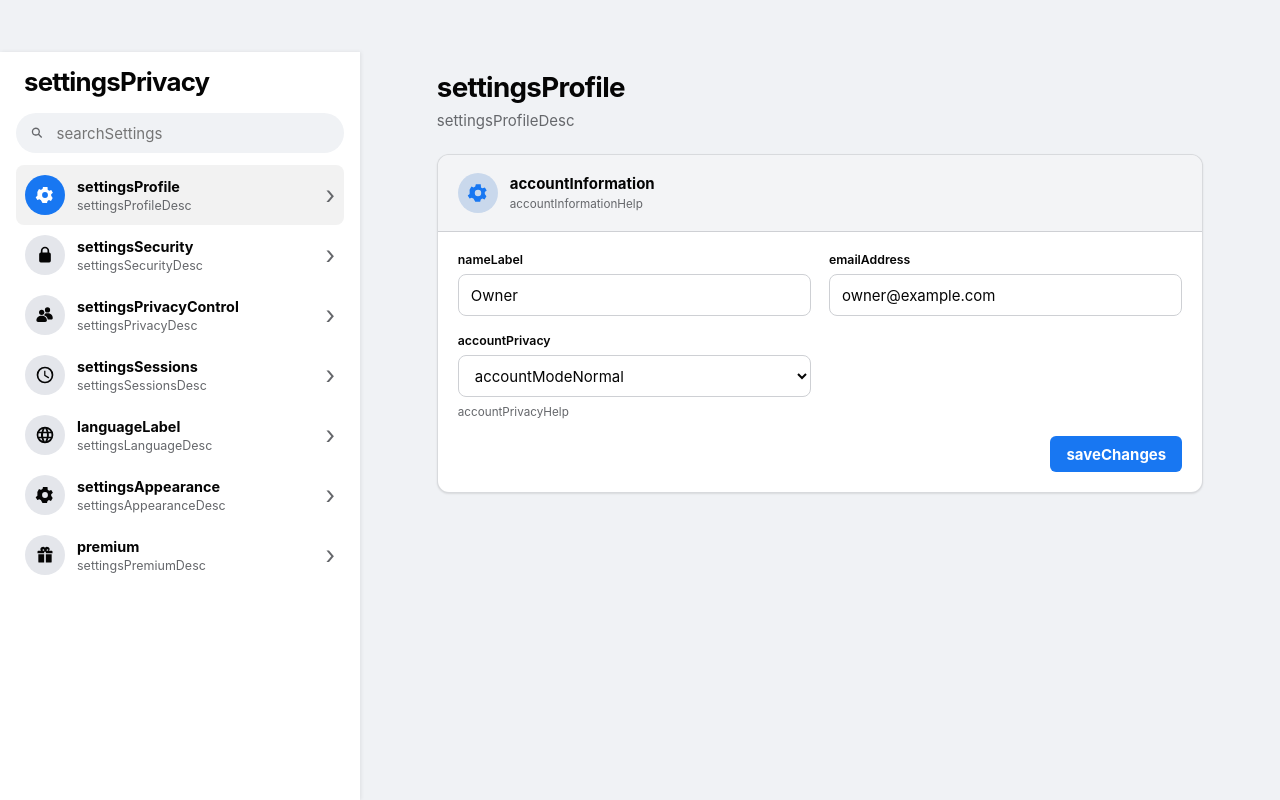
Test case: Account identity settings › requires the current password before changing email
Replace the text in the field labelled "emailAddress" with "new@example.com": (1006, 295) x1=829 y1=274 x2=1182 y2=316
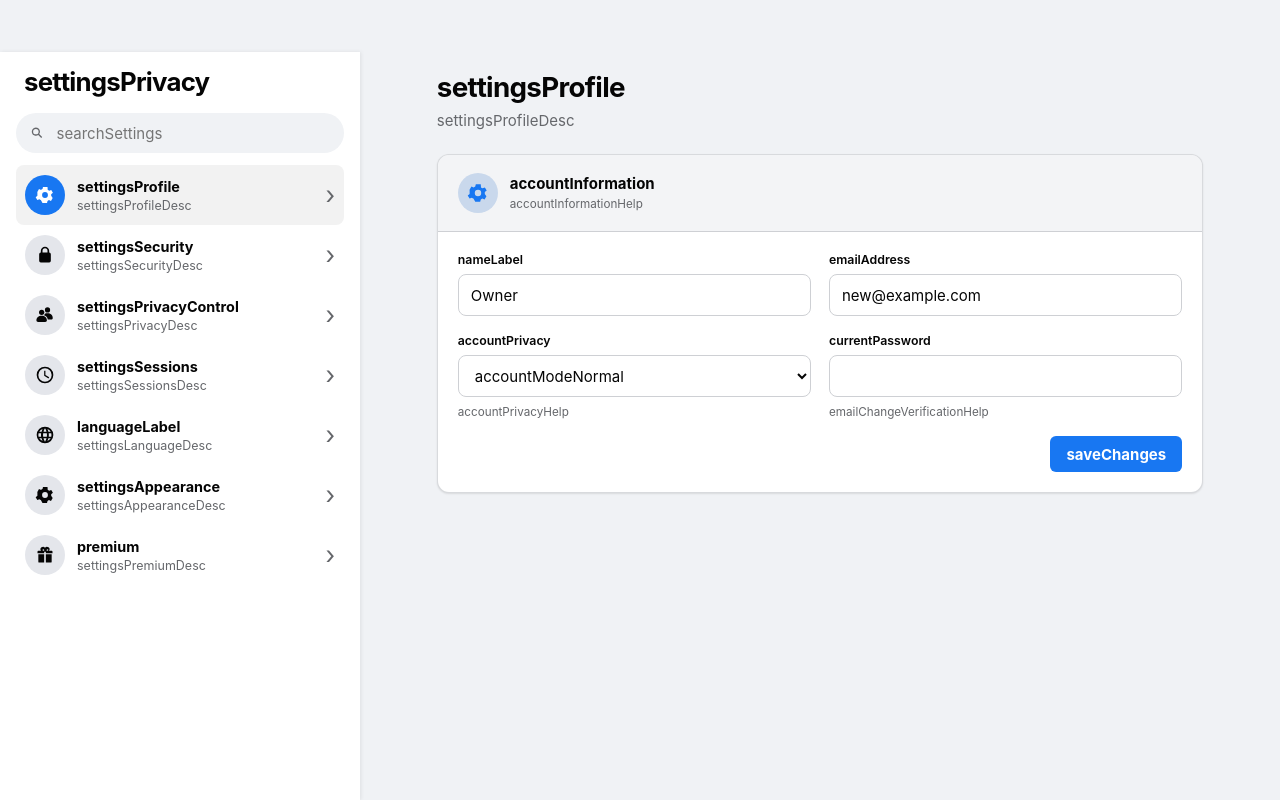
Click the button "saveChanges": click(1116, 454) x1=1050 y1=436 x2=1182 y2=472
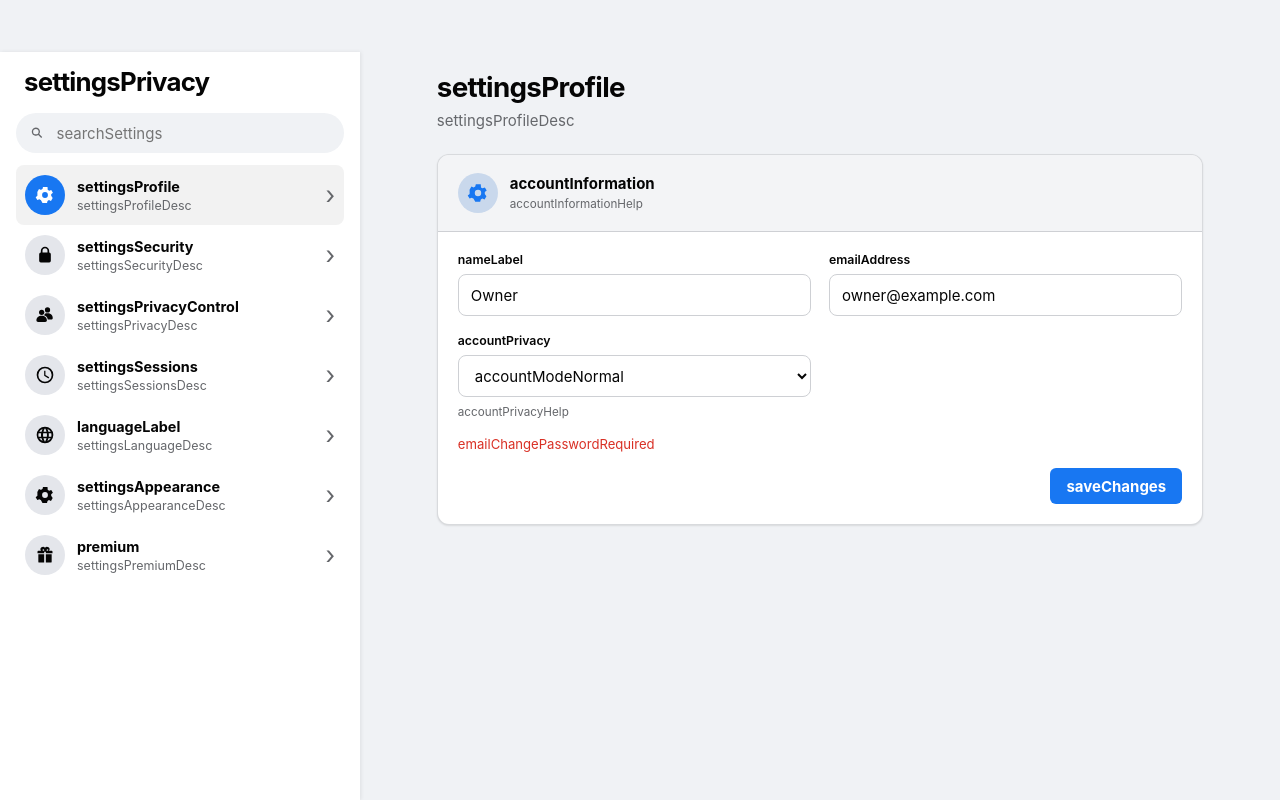
Expected: the text "emailChangePasswordRequired" is shown, x1=458 y1=436 x2=655 y2=452
